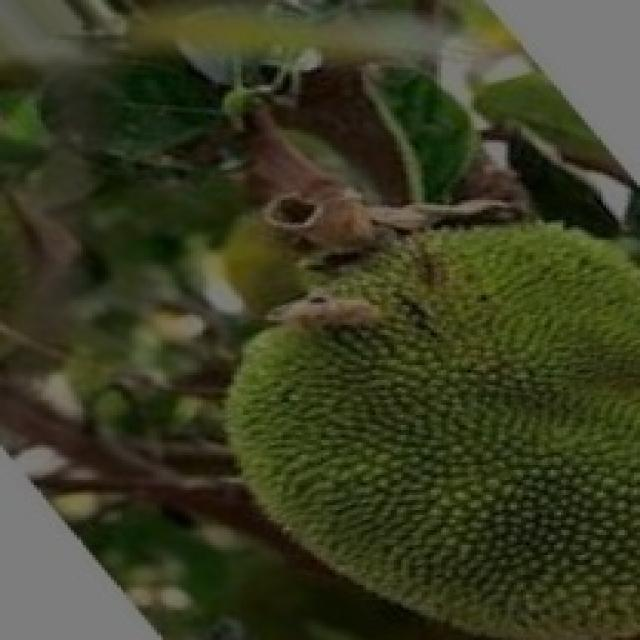Fruit: (209, 205, 637, 637)
